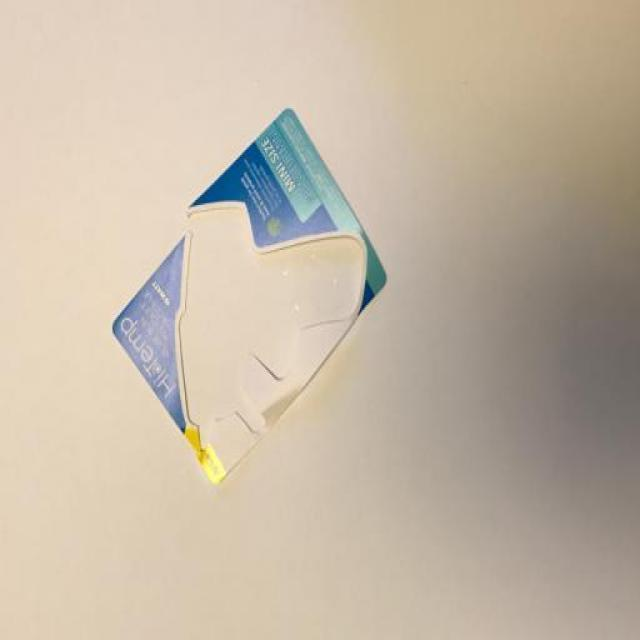paper: (92, 102, 402, 503)
